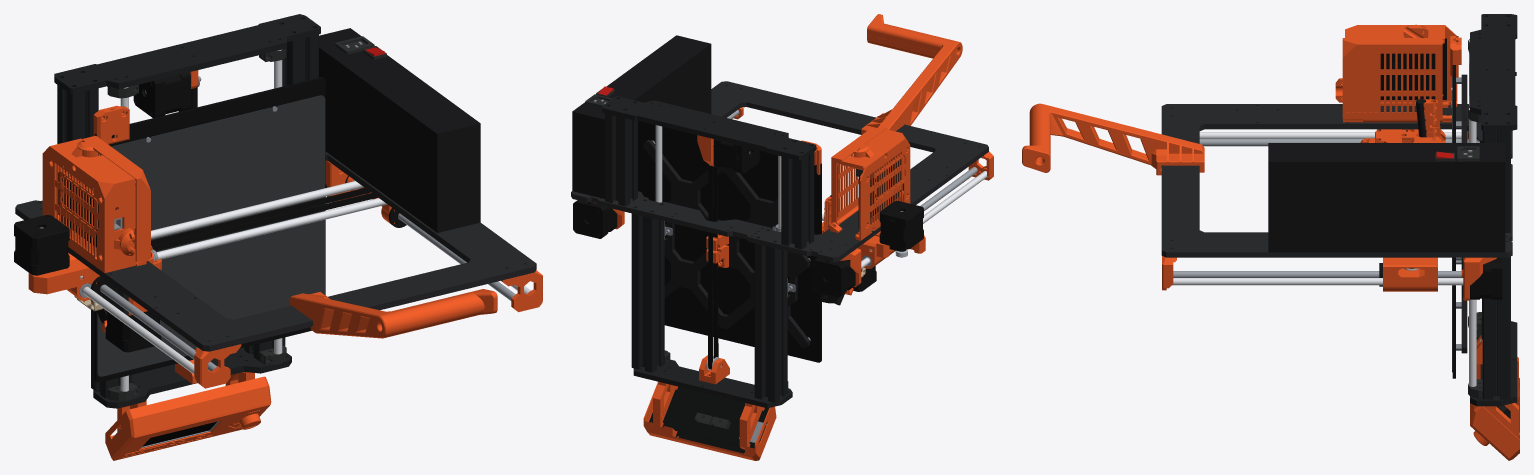
3 views of the same model, side by side, from view 1: azimuth 30°, elevation 25°; view 2: azimuth 150°, elevation 25°; view 3: azimuth 270°, elevation 25° (orthographic). The views are drawn at different scales.
Parts seen in each view (by area): view 1: sheet, psu, frame, einsy-base, y-rear-plate, lcd-cover, spool-holder, heatbed, x-belt, x-motor, y-front-plate, einsy-doors (+16 smaller); view 2: heatbed, frame, psu, y-carriage, y-extrusion-front-r, y-extrusion-front-l, y-rear-plate, spool-holder, einsy-base, lcd-board, y-extrusion-rear-l, y-extrusion-rear-r (+17 smaller); view 3: psu, frame, einsy-doors, spool-holder, y-rear-plate, y-extrusion-front-r, einsy-base, x-end-idler, z-rod-367, einsy-board, z-leadscrew-right, lcd-cover (+12 smaller).
Boxes of the visible parts, bbox=[...] form: sheet: bbox=[97, 95, 325, 376]; psu: bbox=[319, 28, 480, 232]; frame: bbox=[15, 151, 536, 351]; einsy-base: bbox=[42, 138, 135, 273]; y-rear-plate: bbox=[54, 14, 320, 94]; lcd-cover: bbox=[105, 376, 271, 460]; spool-holder: bbox=[289, 289, 497, 338]; heatbed: bbox=[94, 77, 325, 382]; x-belt: bbox=[151, 188, 377, 250]; x-motor: bbox=[14, 215, 69, 275]; y-front-plate: bbox=[93, 347, 291, 408]; einsy-doors: bbox=[81, 135, 150, 261]; heatbed: bbox=[638, 120, 821, 362]; frame: bbox=[571, 81, 988, 262]; psu: bbox=[572, 35, 711, 198]; y-carriage: bbox=[643, 140, 810, 348]; y-extrusion-front-r: bbox=[631, 213, 664, 372]; y-extrusion-front-l: bbox=[754, 243, 787, 402]; y-rear-plate: bbox=[602, 96, 816, 160]; spool-holder: bbox=[861, 14, 962, 134]; einsy-base: bbox=[840, 129, 910, 240]; lcd-board: bbox=[649, 386, 768, 448]; y-extrusion-rear-l: bbox=[781, 152, 814, 249]; y-extrusion-rear-r: bbox=[605, 113, 637, 206]; psu: bbox=[1268, 143, 1505, 252]; frame: bbox=[1161, 104, 1512, 257]; einsy-doors: bbox=[1342, 38, 1442, 122]; spool-holder: bbox=[1022, 103, 1204, 175]; y-rear-plate: bbox=[1470, 14, 1517, 130]; y-extrusion-front-r: bbox=[1482, 256, 1510, 399]; einsy-base: bbox=[1335, 24, 1457, 107]; x-end-idler: bbox=[1383, 257, 1437, 291]; z-rod-367: bbox=[1172, 278, 1463, 285]; einsy-board: bbox=[1380, 38, 1446, 99]; z-leadscrew-right: bbox=[1173, 271, 1461, 277]; lcd-cover: bbox=[1470, 364, 1519, 460].
Bounding box in the file's own units: 428 × 420 × 525.
